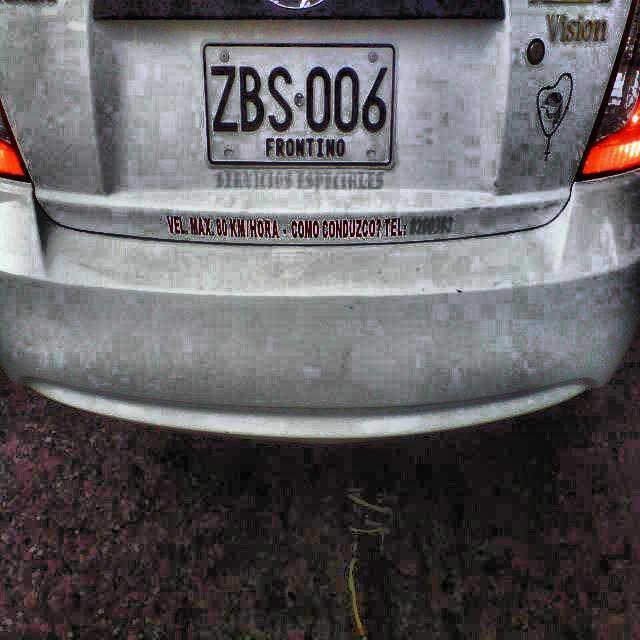plate: (204, 44, 396, 166)
